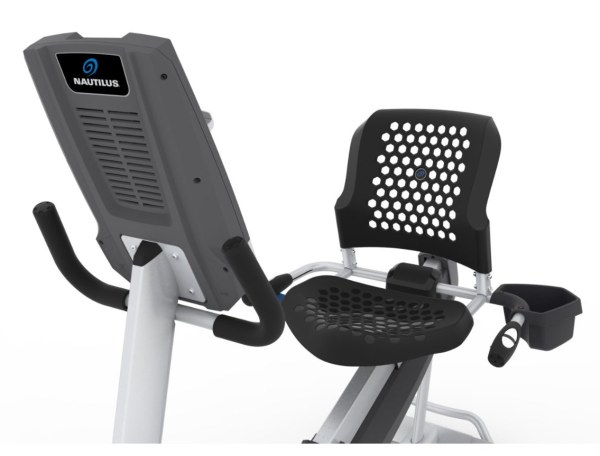gym_bike: (17, 26, 571, 446)
